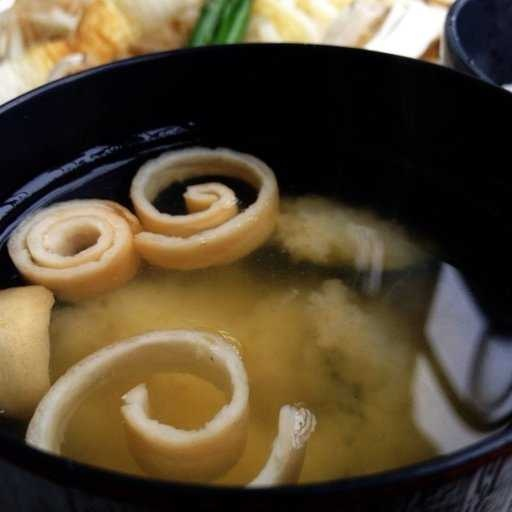soup: (1, 112, 494, 478)
